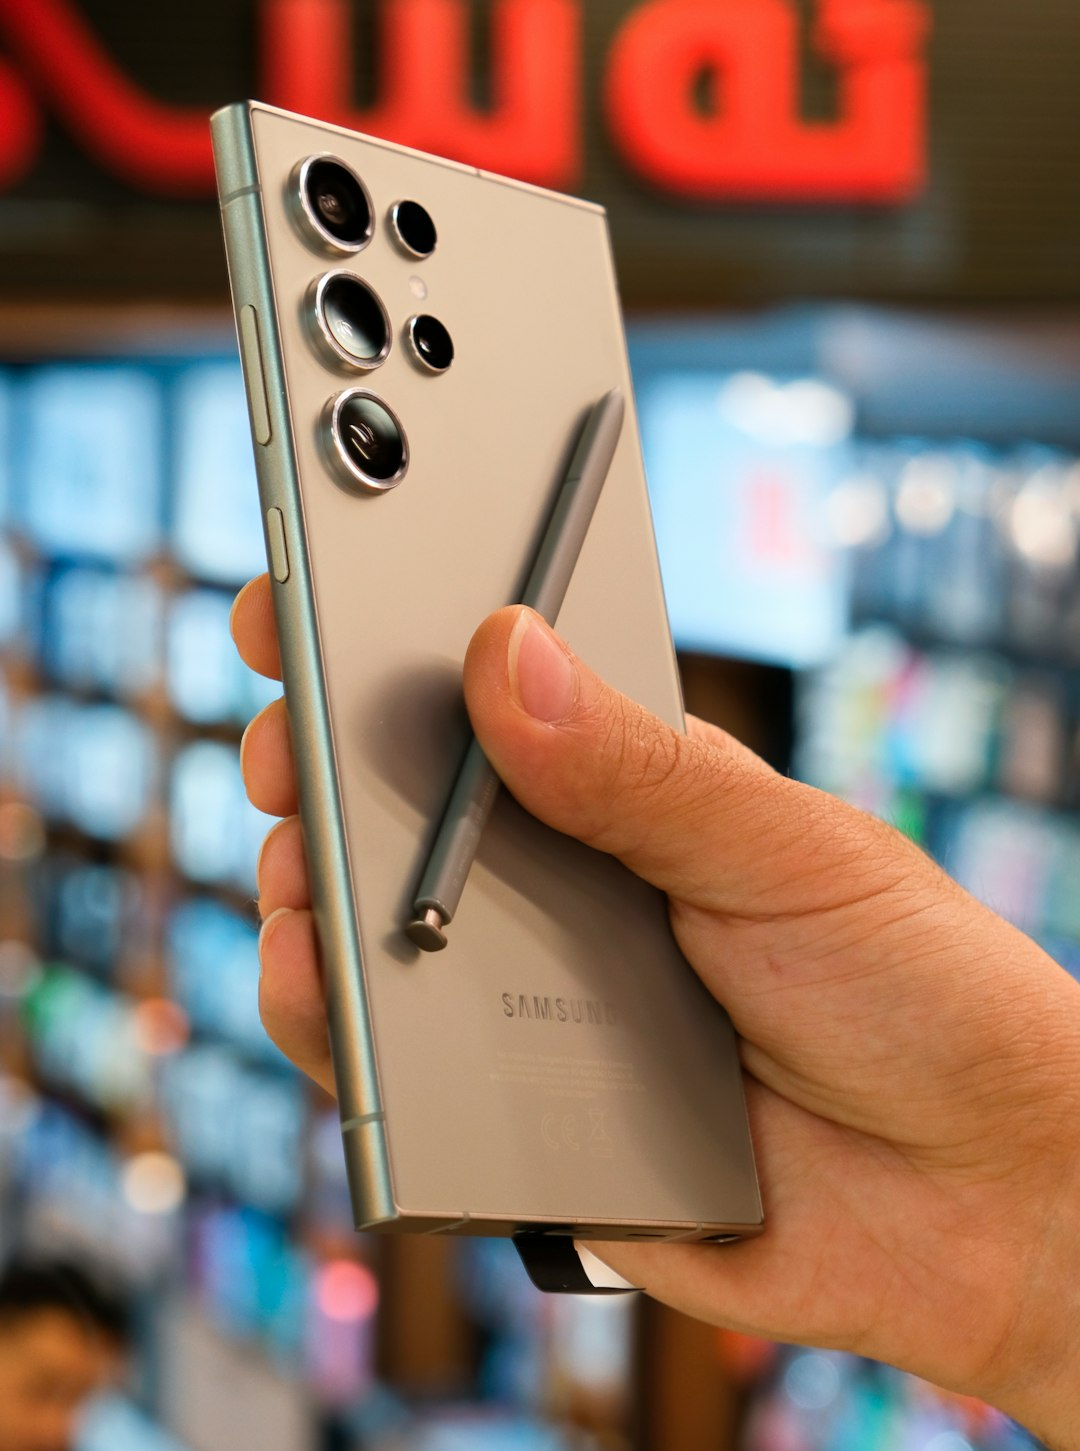phone: (205, 88, 767, 1245)
